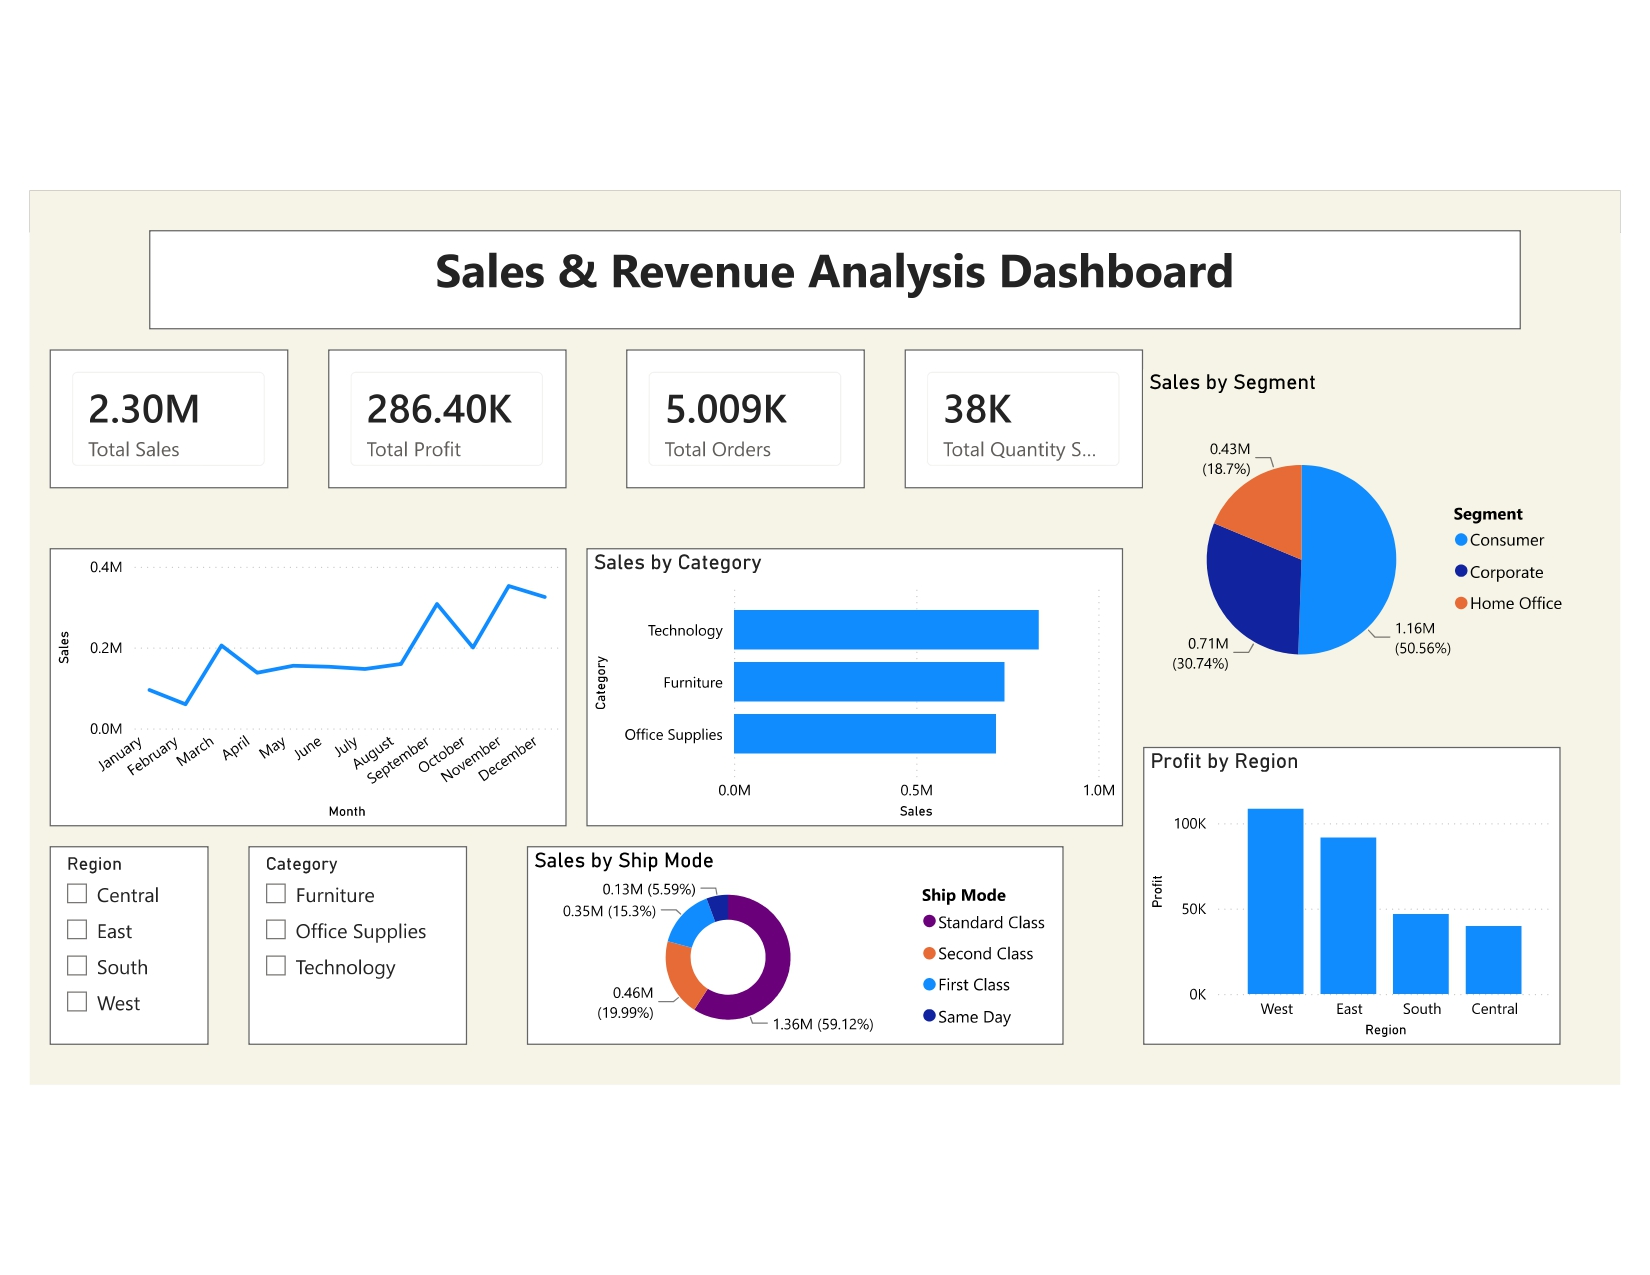

This screenshot's page, from the dashboard's own definition file:
{"tool":"powerbi","page":{"name":"Page 1","canvas":[1280,720],"ordinal":0},"visuals":[{"type":"cardVisual","fields":{"Data":["Sum(Sales & Revenue Analysis Dashboard.Sales)"]},"box":[16,128,192,112],"z":0},{"type":"cardVisual","fields":{"Data":["Sum(Sales & Revenue Analysis Dashboard.Profit)"]},"box":[240,128,192,112],"z":1000},{"type":"cardVisual","fields":{"Data":["Count(Sales & Revenue Analysis Dashboard.Order ID)"]},"box":[480,128,192,112],"z":2000},{"type":"cardVisual","fields":{"Data":["Sum(Sales & Revenue Analysis Dashboard.Quantity)"]},"box":[704,128,192,112],"z":3000},{"type":"lineChart","title":"Sales Trend","fields":{"Y":["Sum(Sales & Revenue Analysis Dashboard.Sales)"],"Category":["Sales & Revenue Analysis Dashboard.Order Date.Variation.Date Hierarchy.Month"]},"box":[16,288,416,224],"z":4000},{"type":"clusteredBarChart","title":"Sales by Category","fields":{"Category":["Sales & Revenue Analysis Dashboard.Category"],"Y":["Sum(Sales & Revenue Analysis Dashboard.Sales)"]},"box":[448,288,432,224],"z":4001},{"type":"clusteredColumnChart","fields":{"Category":["Sales & Revenue Analysis Dashboard.Region"],"Y":["Sum(Sales & Revenue Analysis Dashboard.Profit)"]},"box":[896,448,336,240],"z":4002},{"type":"pieChart","fields":{"Category":["Sales & Revenue Analysis Dashboard.Segment"],"Y":["Sum(Sales & Revenue Analysis Dashboard.Sales)"]},"box":[896,144,352,288],"z":4003},{"type":"slicer","fields":{"Values":["Sales & Revenue Analysis Dashboard.Region"]},"box":[16,528,128,160],"z":4004},{"type":"slicer","fields":{"Values":["Sales & Revenue Analysis Dashboard.Category"]},"box":[176,528,176,160],"z":4005},{"type":"donutChart","title":"Sales by Ship Mode","fields":{"Category":["Sales & Revenue Analysis Dashboard.Ship Mode"],"Y":["Sum(Sales & Revenue Analysis Dashboard.Sales)"]},"box":[400,528,432,160],"z":4006},{"type":"textbox","box":[96,32,1104,80],"z":4007}]}

Visuals, with their boxes on the page's 1280x720 design canvas (x1, y1, x2, y2). These are canvas units, not pixel positions in the 1650x1275 screenshot, which may show the page scaled, cropped or inside an application window:
cardVisual - Sum(Sales & Revenue Analysis Dashboard.Sales): select_region(16, 128, 208, 240)
cardVisual - Sum(Sales & Revenue Analysis Dashboard.Profit): select_region(240, 128, 432, 240)
cardVisual - Count(Sales & Revenue Analysis Dashboard.Order ID): select_region(480, 128, 672, 240)
cardVisual - Sum(Sales & Revenue Analysis Dashboard.Quantity): select_region(704, 128, 896, 240)
"Sales Trend" lineChart: select_region(16, 288, 432, 512)
"Sales by Category" clusteredBarChart: select_region(448, 288, 880, 512)
clusteredColumnChart - Sales & Revenue Analysis Dashboard.Region x Sum(Sales & Revenue Analysis Dashboard.Profit): select_region(896, 448, 1232, 688)
pieChart - Sales & Revenue Analysis Dashboard.Segment x Sum(Sales & Revenue Analysis Dashboard.Sales): select_region(896, 144, 1248, 432)
slicer - Sales & Revenue Analysis Dashboard.Region: select_region(16, 528, 144, 688)
slicer - Sales & Revenue Analysis Dashboard.Category: select_region(176, 528, 352, 688)
"Sales by Ship Mode" donutChart: select_region(400, 528, 832, 688)
textbox: select_region(96, 32, 1200, 112)
